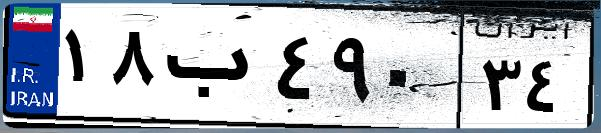0: (385, 28, 445, 110)
1: (57, 26, 110, 100)
3: (475, 38, 525, 113)
4: (270, 28, 330, 110), (525, 38, 570, 115)
8: (110, 28, 158, 98)
9: (330, 28, 385, 110)
ب: (158, 20, 270, 120)
